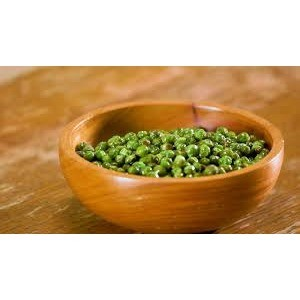green pea_brain food: (115, 118, 222, 173)
